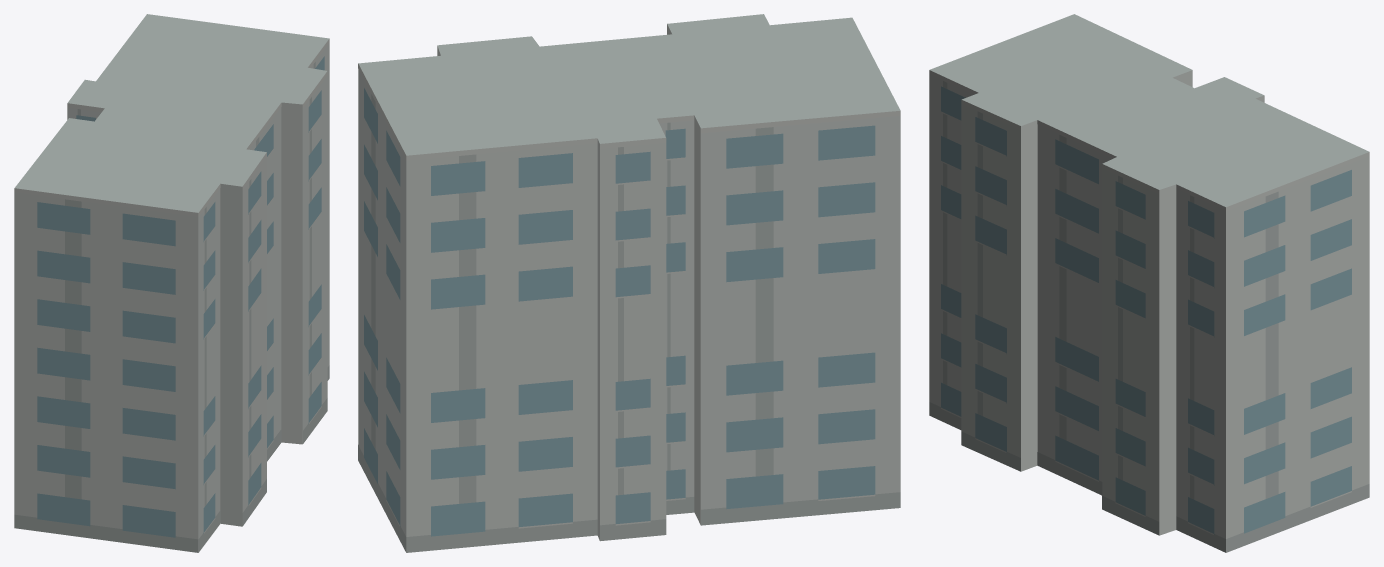
The model's file is survey-upis-32825482.glb.
3 renders of one model, left to right at view 1: azimuth 30°, elevation 25°; view 2: azimuth 150°, elevation 25°; view 3: azimuth 270°, elevation 25°, orthographic. The views are drawn at different scales.
Parts seen in each view (by area): view 1: survey-upis-32825482.tmp; view 2: survey-upis-32825482.tmp; view 3: survey-upis-32825482.tmp.
Part boxes in pixels (<box>): survey-upis-32825482.tmp: <box>14,14,329,552</box>; survey-upis-32825482.tmp: <box>358,14,900,552</box>; survey-upis-32825482.tmp: <box>929,14,1369,552</box>.
Bounding box in the file's own units: 22.68 × 18.9 × 21.84.
